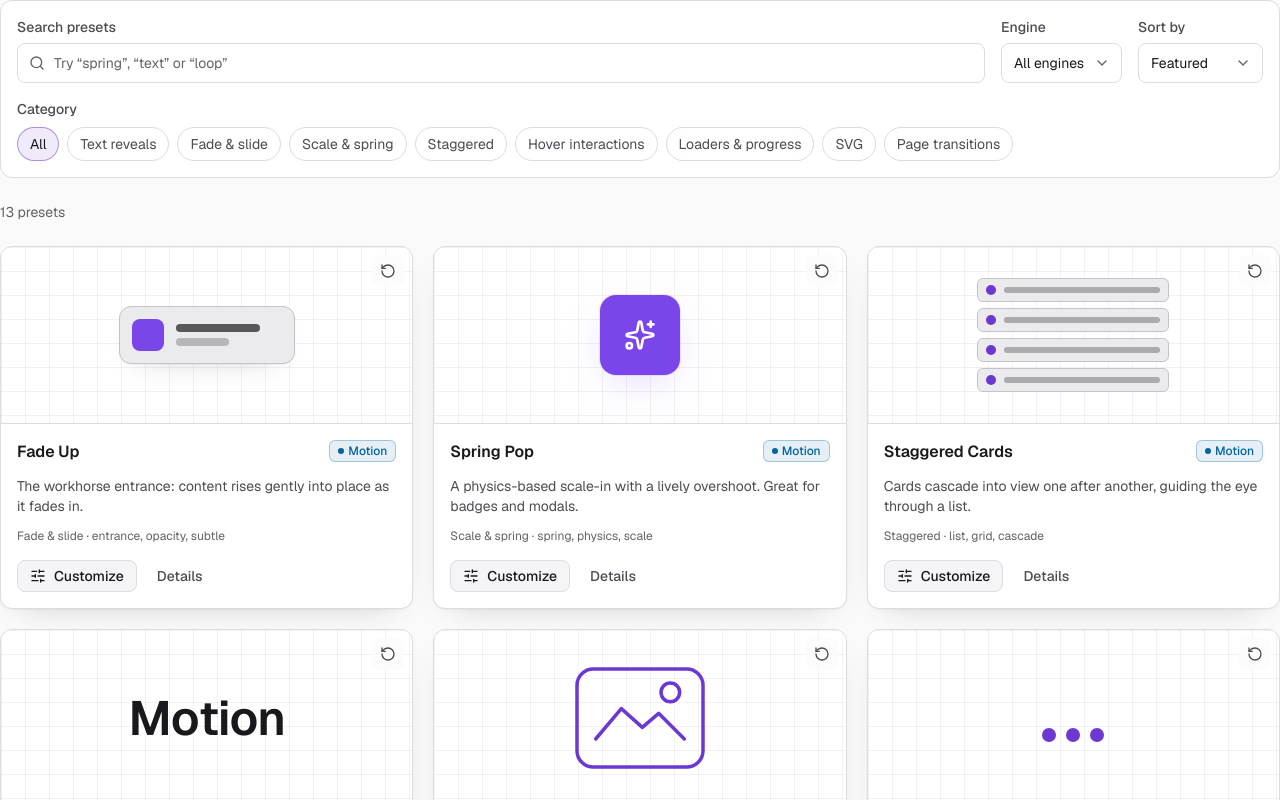
GalleryBrowser › filters by category using radio buttons
This screenshot has width=1280, height=800.
Click the radio button labelled "SVG": click(849, 144) 822,127 -> 876,161
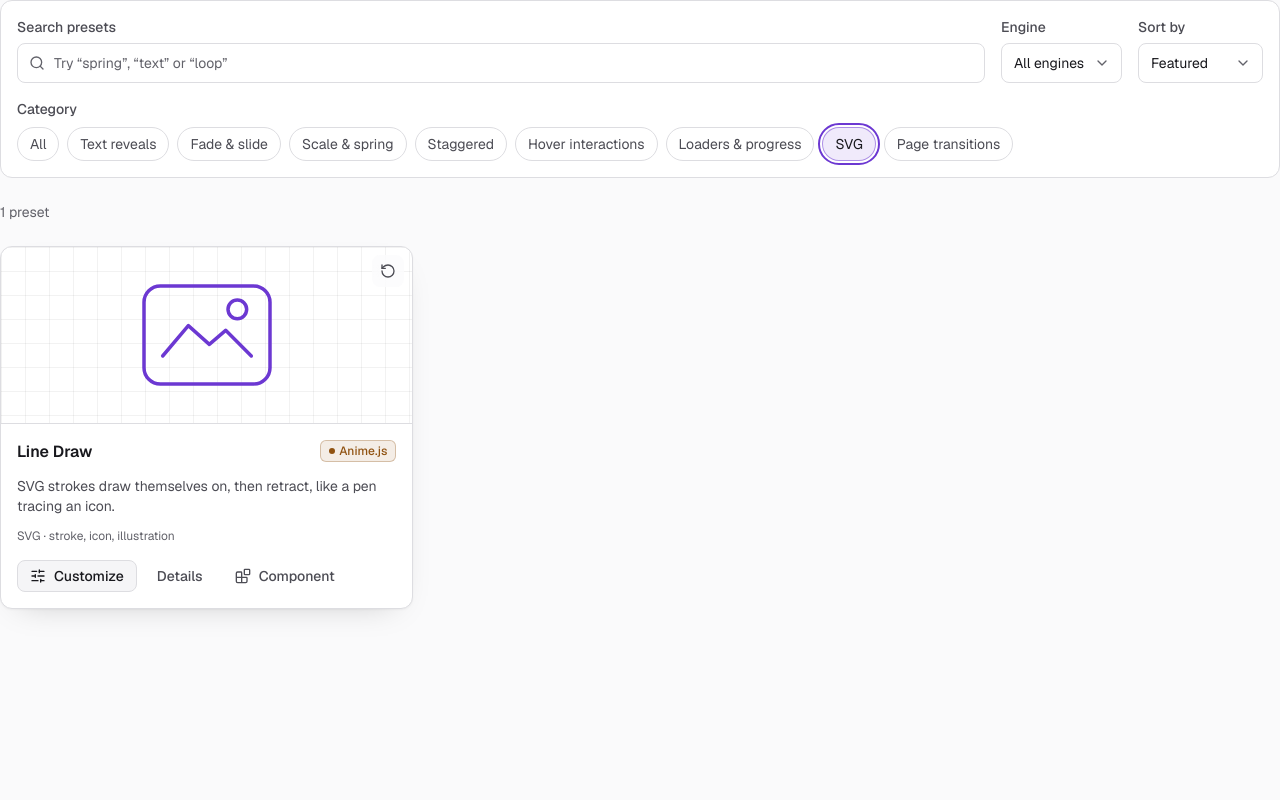
expect the radio button labelled "SVG" is checked: met, box 822,127 -> 876,161
expect the text "1 preset" is shown: met, box 0,203 -> 50,221
